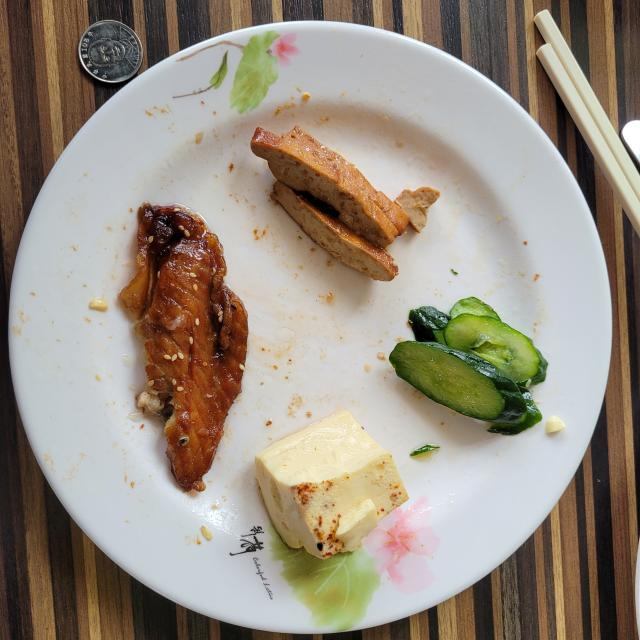Kabayaki sea bream fillet: (119, 204, 248, 491)
coin: (79, 20, 142, 82)
cucumber: (389, 298, 548, 435)
